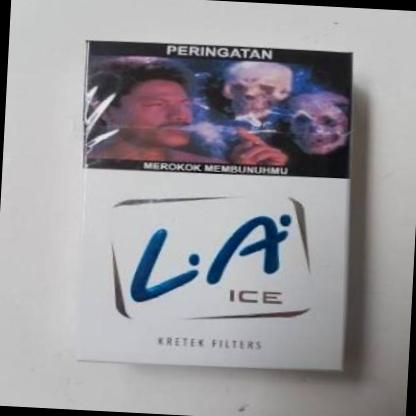objects: (70, 40, 360, 376)
